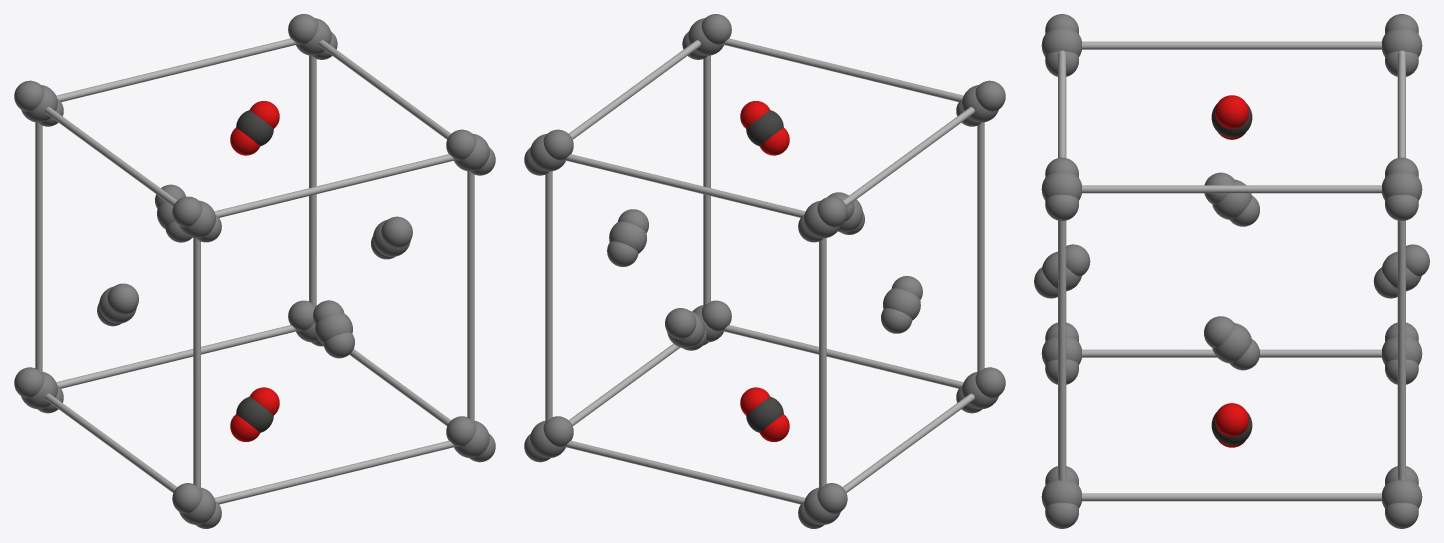
Rendered from fenzijingtu6.FBX.
The picture shows the model from 3 angles, left to right: view 1: azimuth 30°, elevation 25°; view 2: azimuth 150°, elevation 25°; view 3: azimuth 270°, elevation 25°; orthographic projection. The views are drawn at different scales.
Visible parts, largest first — view 1: F005; view 2: F005; view 3: F005.
Part boxes in pixels (bbox=[...]): F005: bbox=[14, 14, 495, 528]; F005: bbox=[524, 14, 1005, 528]; F005: bbox=[1034, 14, 1429, 528].
Size of the model in its own units: 58.27 by 58.27 by 58.27.
